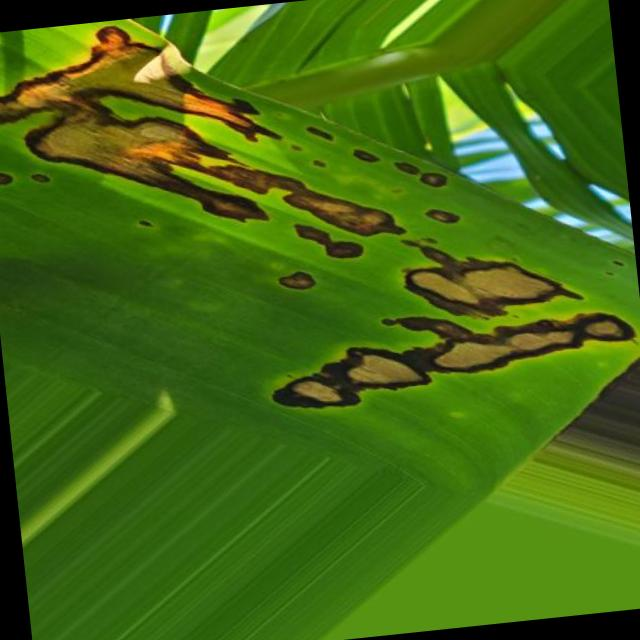Banana_Black_Sigatoka: (0, 0, 345, 284), (251, 222, 640, 441)
